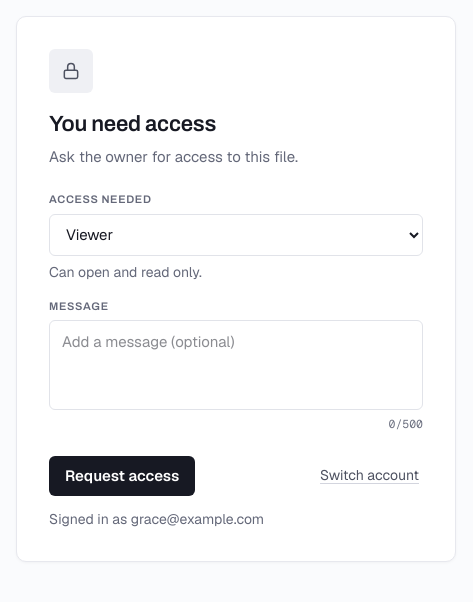
Test: RequestAccess › shows why a request failed and remembers nothing
Click the button "Request access" at x=122, y=476, box [49,456,195,496]
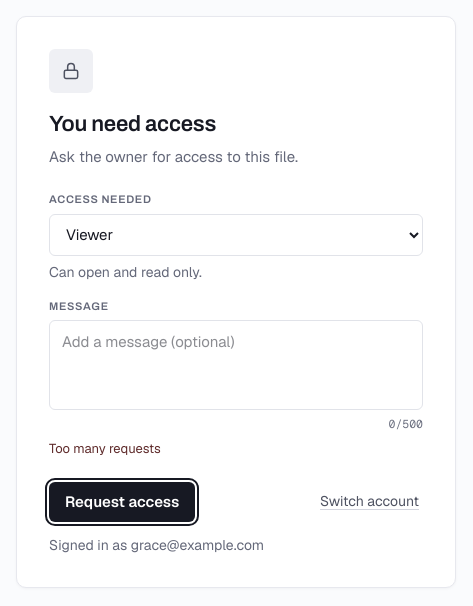
Expected: the heading "You need access" is shown, [49,112,216,136]
Now the message reads "Too many requests", box [49,440,161,457]
